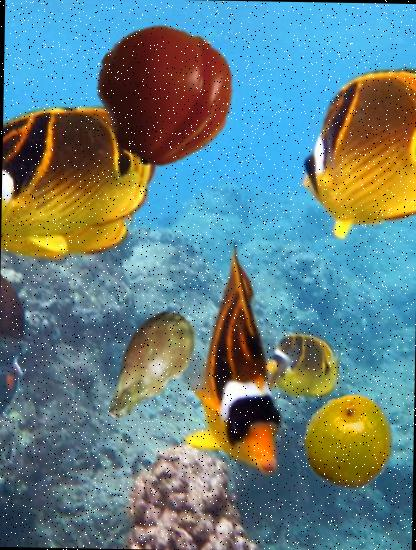Cactus: (86, 304, 210, 429)
Maracuja: (298, 396, 395, 492)
Tomato: (91, 24, 233, 166)
